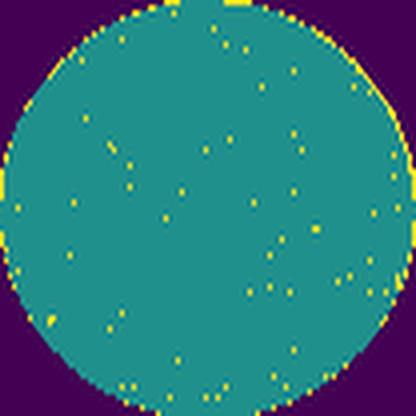Edge-Ring: (220, 0, 416, 336)
